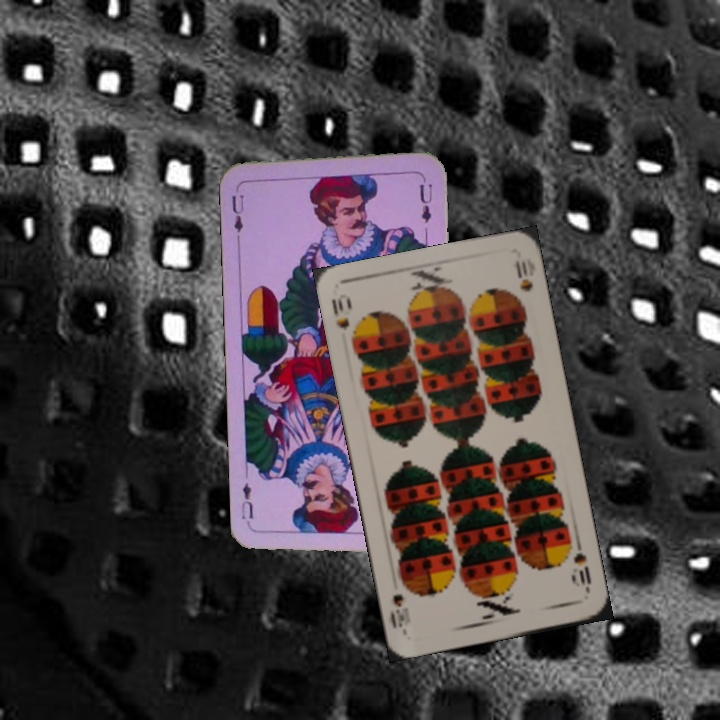EU: (227, 183, 248, 242)
S10: (327, 289, 360, 347), (569, 538, 594, 596)
